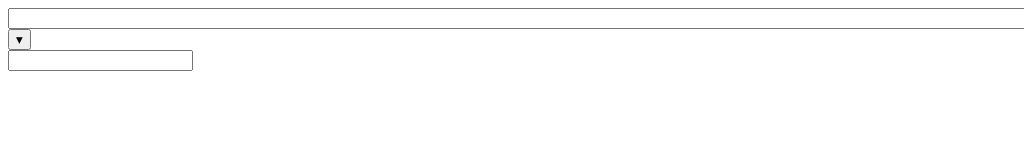
Test case: a field somebody can type into or pick from › LEAD-31: Escape closes the list rather than the screen around it
The image size is (1036, 160).
Later steps or results of the test are not shown.
Step 1. Type "ca" into the dropdown → (516, 18), box [8, 8, 1024, 29]
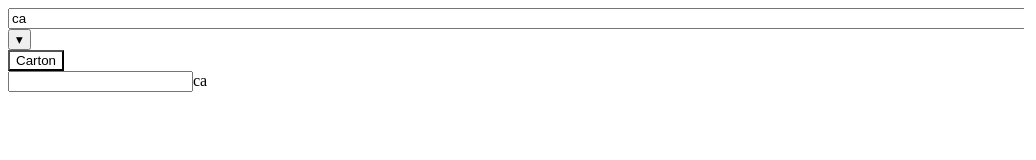
Now the option "Carton" is shown, box [8, 50, 64, 71]
Step 2. Press Escape in the dropdown, box [8, 8, 1024, 29]
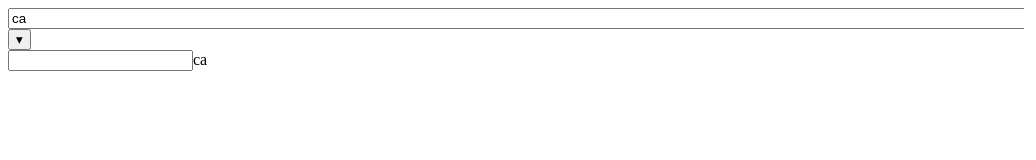
Now the option "Carton" is gone
